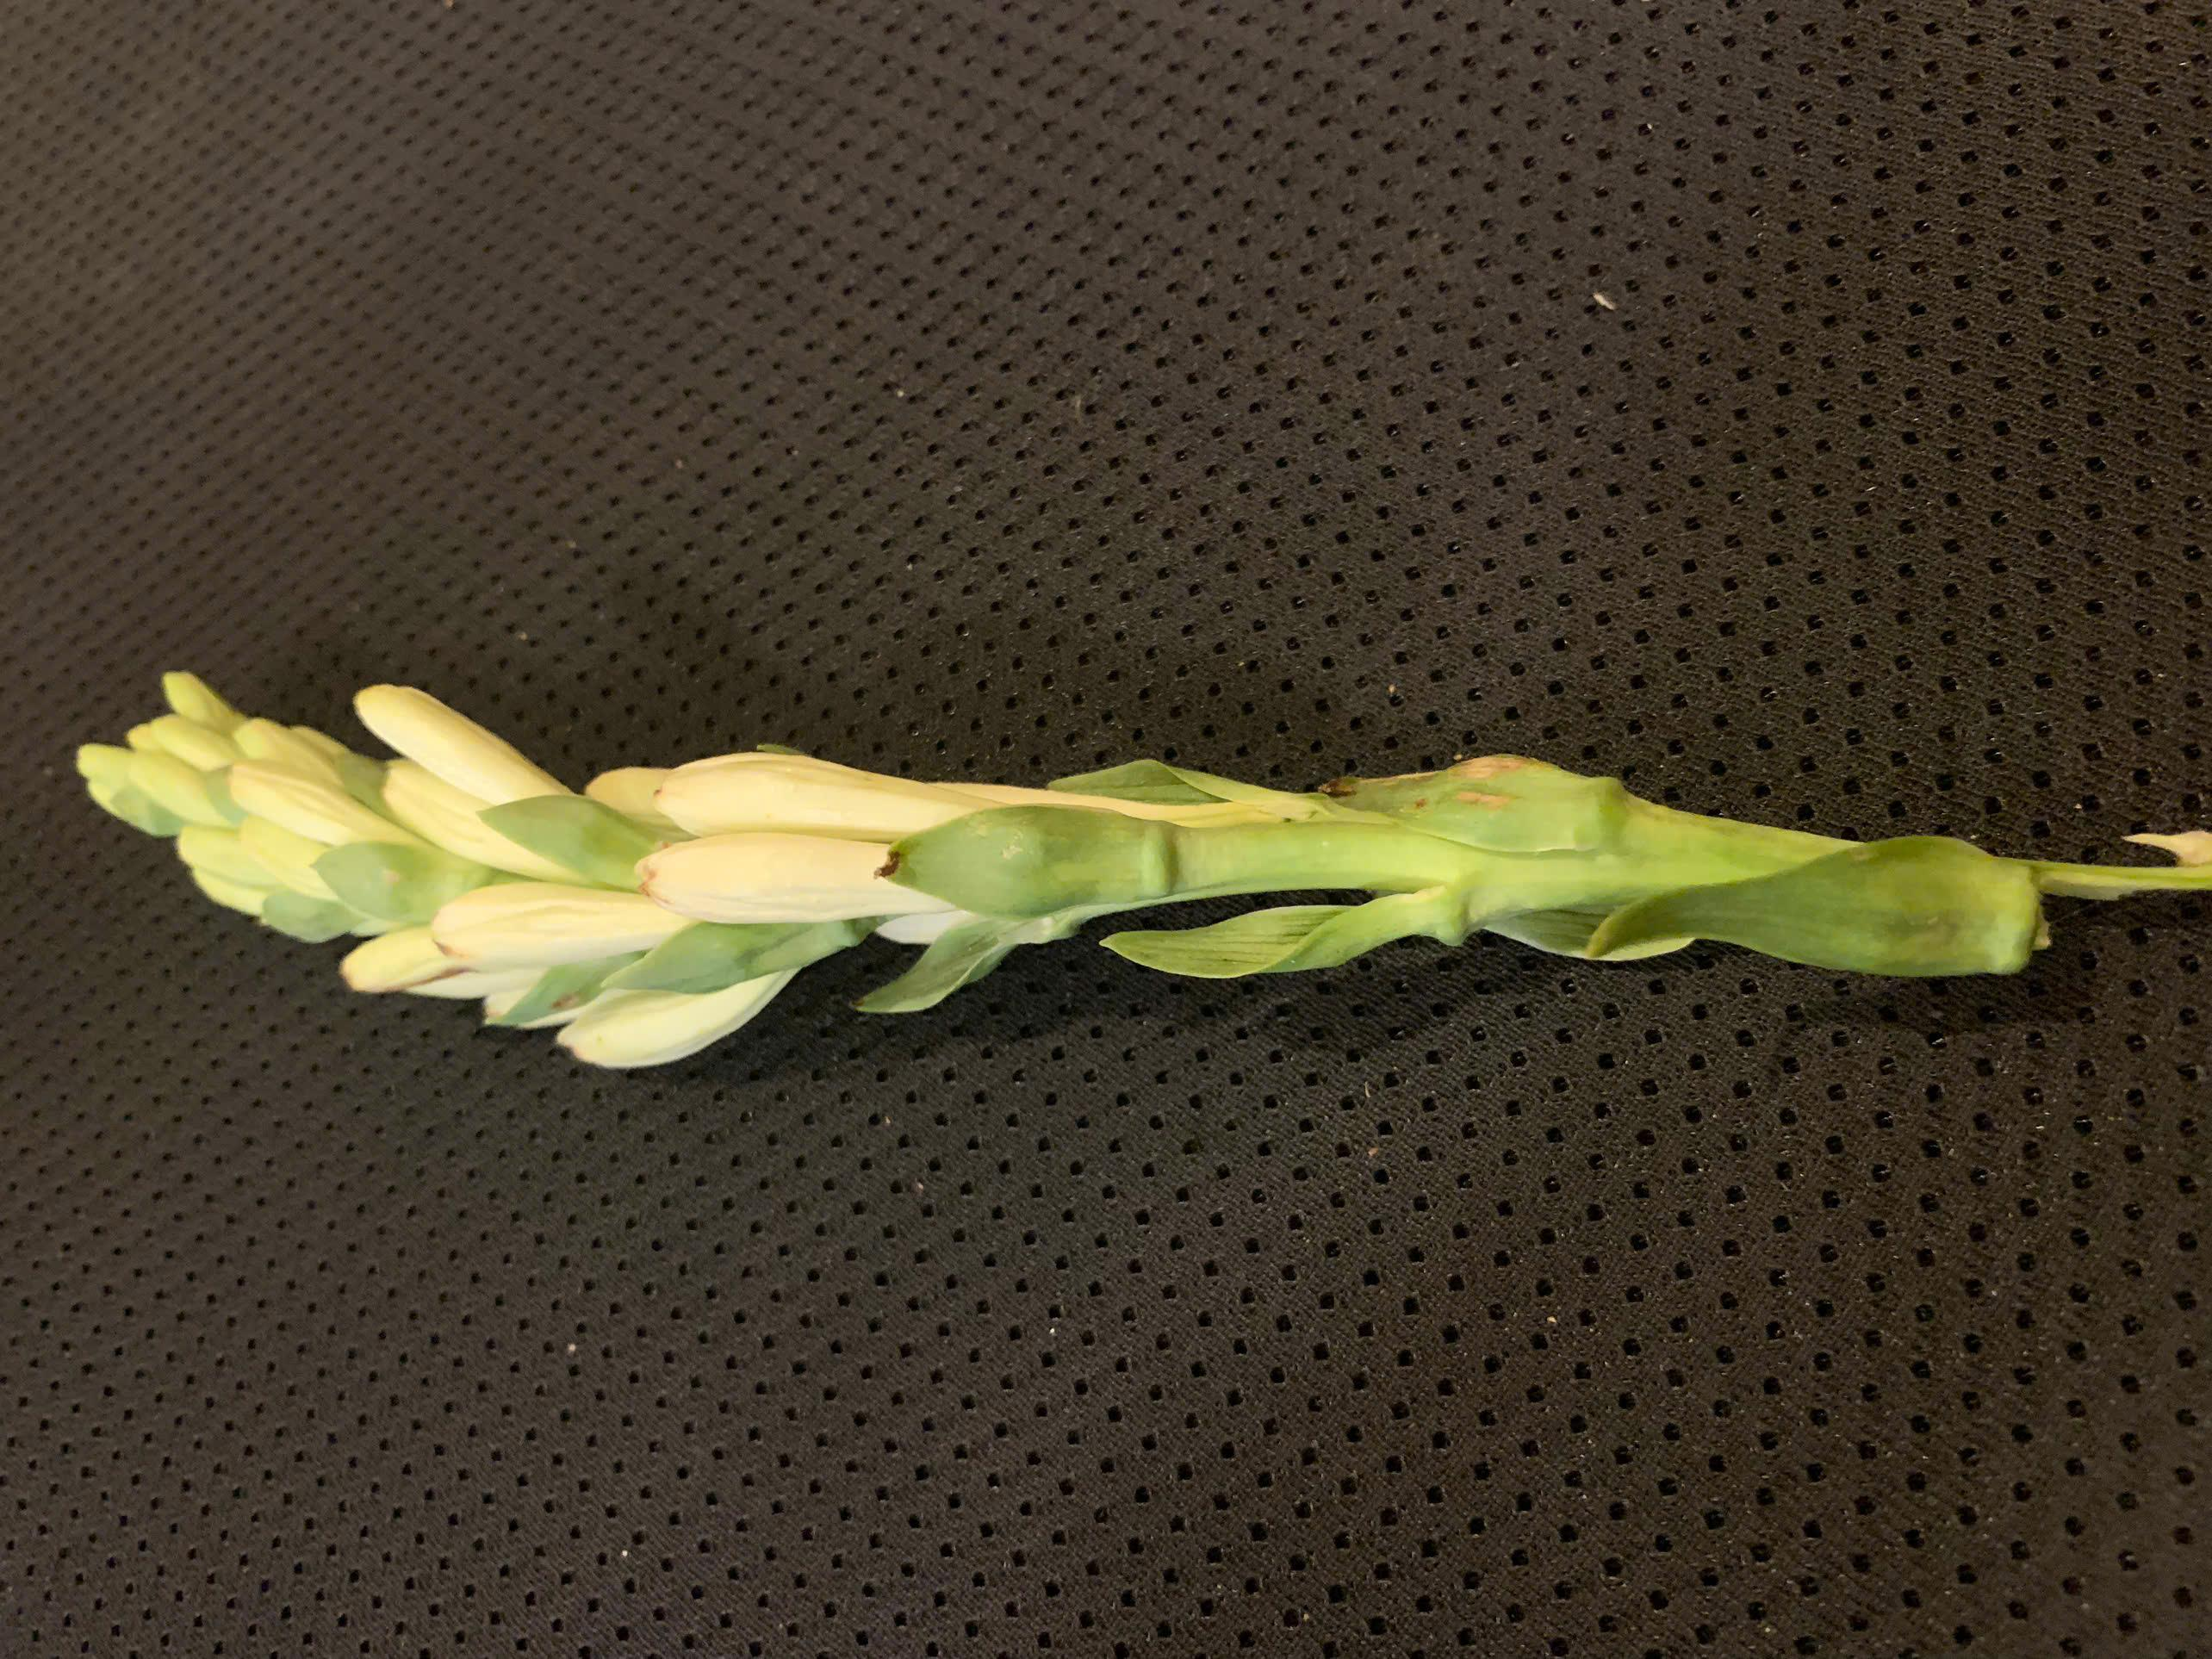Huu co: (70, 681, 2212, 1063)
